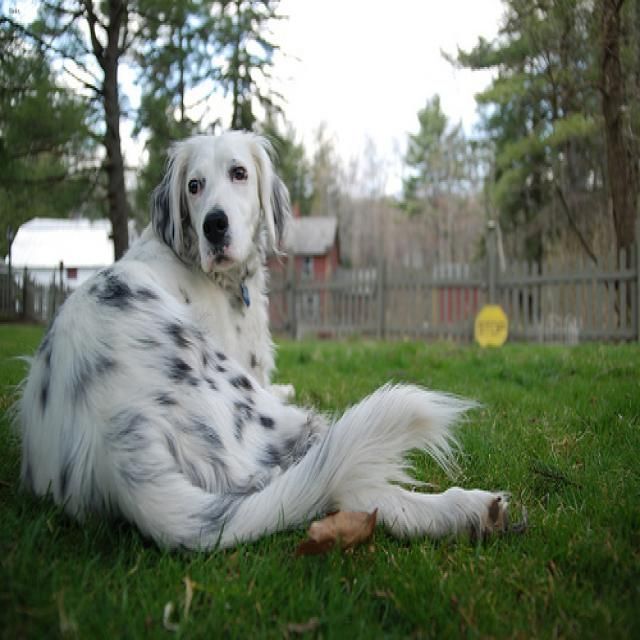dog-english_setter: (9, 121, 517, 563)
